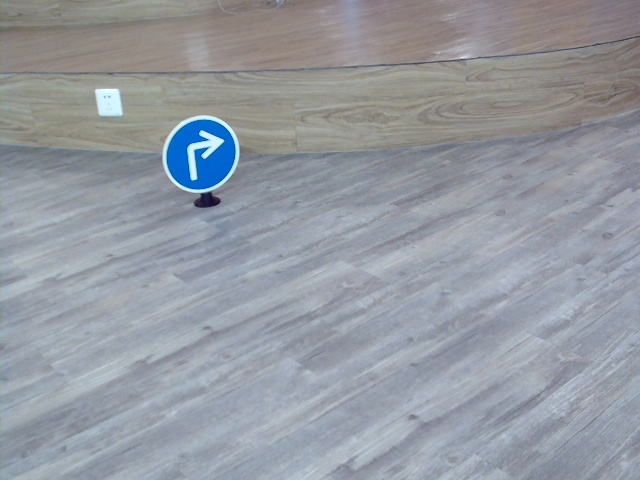turn_right: (180, 132, 222, 177)
